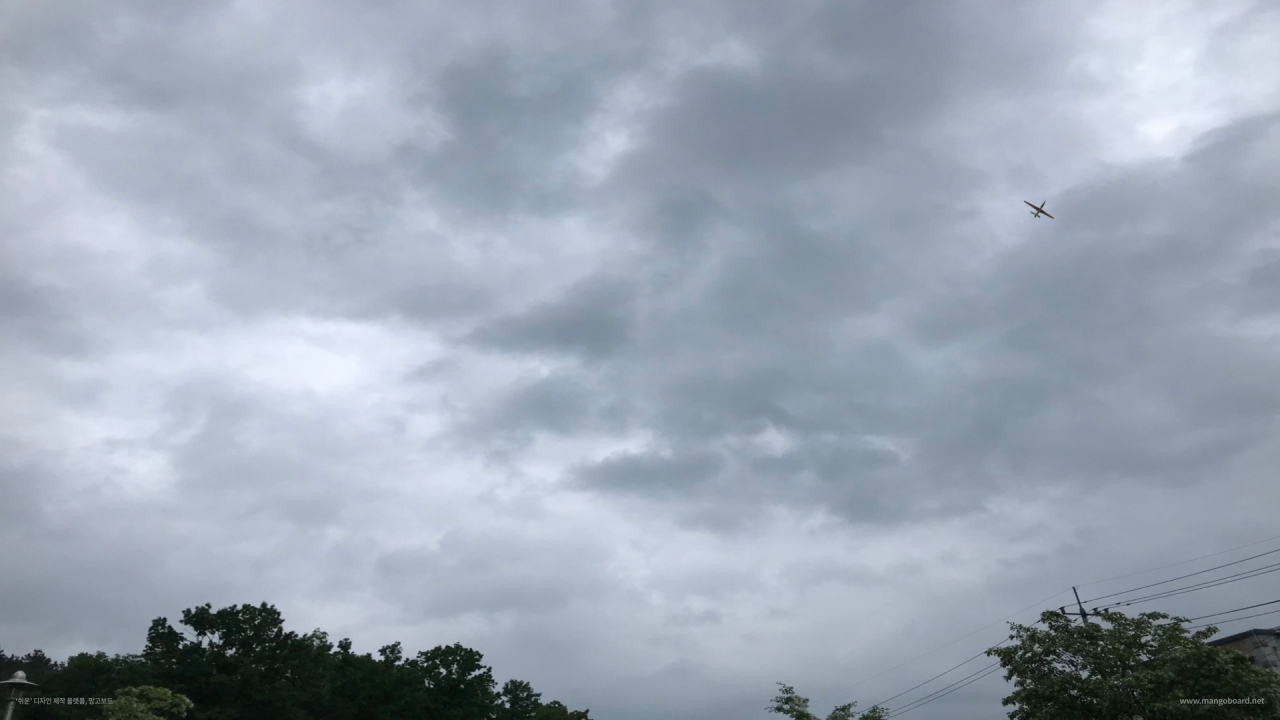military drone: (1023, 200, 1054, 219)
